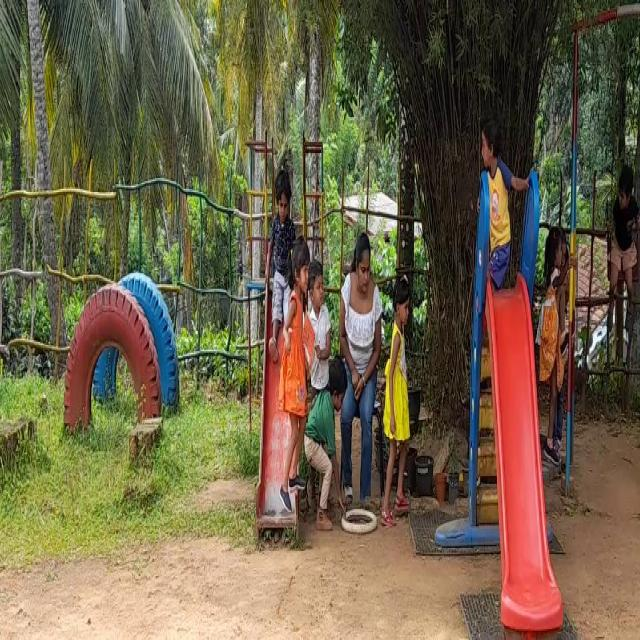adult: (339, 235, 383, 520)
child: (481, 114, 531, 288), (280, 232, 309, 510), (384, 277, 415, 522), (305, 355, 347, 529), (540, 225, 569, 457), (604, 155, 638, 339), (266, 167, 296, 362), (308, 260, 332, 398)
